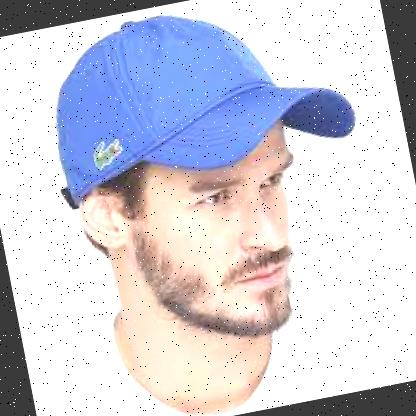sem_capacete: (24, 0, 394, 372)
sem_colete_refletivo: (22, 252, 415, 415)
